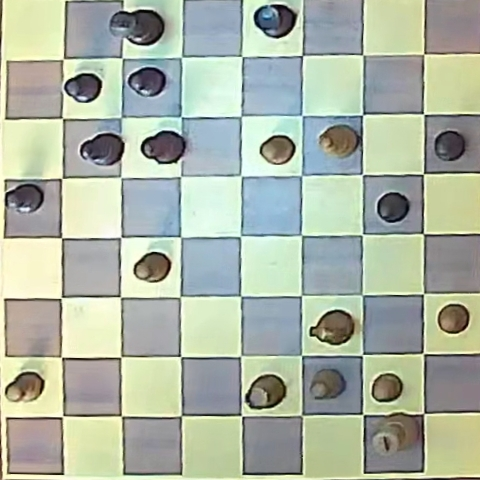black-bishop: (80, 133, 124, 166), (142, 131, 184, 164)
black-king: (111, 9, 163, 46)
black-pawn: (63, 72, 101, 103), (127, 67, 166, 97), (5, 184, 44, 213), (376, 192, 409, 223), (434, 130, 465, 161)
black-rook: (254, 3, 295, 39)
white-bishop: (318, 125, 358, 159)
white-king: (371, 414, 419, 456)
white-knight: (310, 310, 353, 346)
white-pawn: (5, 372, 44, 403), (134, 252, 171, 283), (309, 369, 344, 400), (260, 135, 295, 164), (437, 304, 469, 334), (371, 373, 403, 402)
white-rook: (246, 375, 286, 409)
